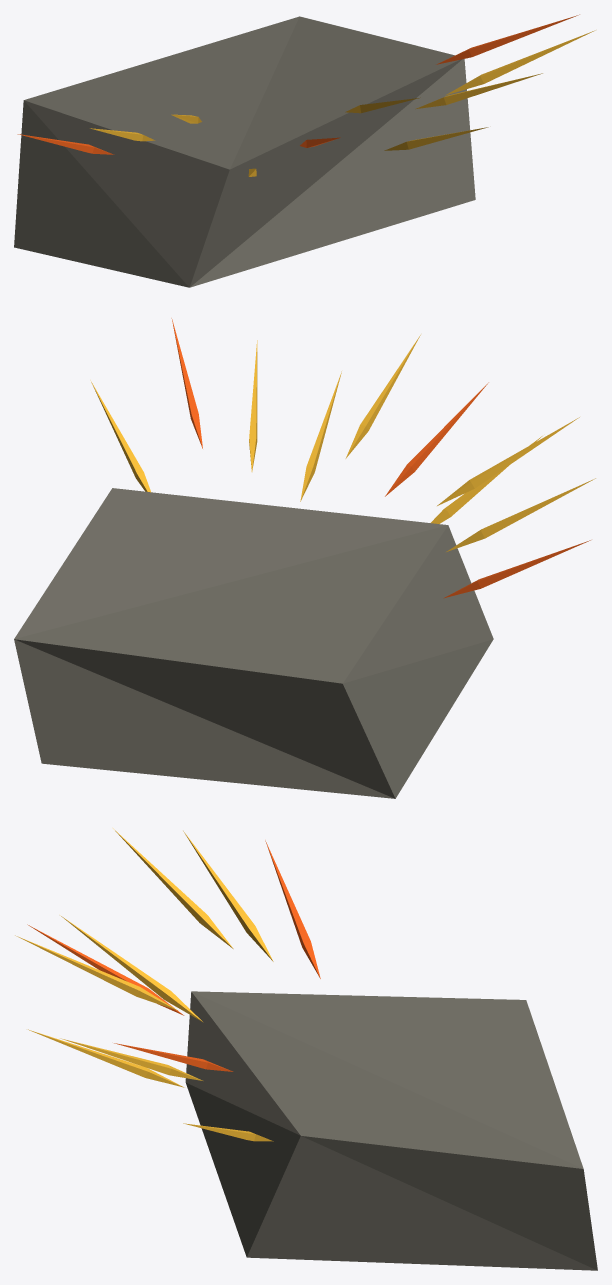
File: golem_hit_iron_sparks.obj
3 views of the same model, one above another, from view 1: azimuth 30°, elevation 25°; view 2: azimuth 150°, elevation 25°; view 3: azimuth 270°, elevation 25° (orthographic). The views are drawn at different scales.
Parts seen in each view (by area): view 1: dented_iron_plate, iron_spark_10, iron_spark_9, iron_spark_8, iron_spark_7, iron_spark_1, iron_spark_6; view 2: dented_iron_plate, iron_spark_3, iron_spark_2, iron_spark_5, iron_spark_1, iron_spark_6, iron_spark_7, iron_spark_10, iron_spark_9, iron_spark_8, iron_spark_4; view 3: dented_iron_plate, iron_spark_4, iron_spark_3, iron_spark_6, iron_spark_2, iron_spark_7, iron_spark_1, iron_spark_8, iron_spark_5, iron_spark_9.
Boxes of the visible parts, left/top/right/bottom form: dented_iron_plate: left=14, top=16, right=475, bottom=287; iron_spark_10: left=445, top=30, right=595, bottom=95; iron_spark_9: left=436, top=14, right=579, bottom=64; iron_spark_8: left=415, top=73, right=542, bottom=109; iron_spark_7: left=384, top=127, right=488, bottom=150; iron_spark_1: left=17, top=134, right=114, bottom=154; iron_spark_6: left=345, top=97, right=420, bottom=113; dented_iron_plate: left=14, top=488, right=493, bottom=798; iron_spark_3: left=437, top=417, right=579, bottom=505; iron_spark_2: left=446, top=478, right=595, bottom=551; iron_spark_5: left=385, top=382, right=488, bottom=496; iron_spark_1: left=443, top=540, right=590, bottom=598; iron_spark_6: left=345, top=335, right=420, bottom=458; iron_spark_7: left=300, top=371, right=341, bottom=501; iron_spark_10: left=90, top=380, right=150, bottom=492; iron_spark_9: left=171, top=318, right=202, bottom=448; iron_spark_8: left=249, top=340, right=257, bottom=471; iron_spark_4: left=431, top=436, right=542, bottom=523; dented_iron_plate: left=185, top=991, right=597, bottom=1270; iron_spark_4: left=60, top=915, right=202, bottom=1021; iron_spark_3: left=113, top=828, right=233, bottom=948; iron_spark_6: left=15, top=935, right=177, bottom=1010; iron_spark_2: left=183, top=831, right=273, bottom=961; iron_spark_7: left=28, top=1029, right=184, bottom=1087; iron_spark_1: left=265, top=840, right=320, bottom=978; iron_spark_8: left=60, top=1038, right=202, bottom=1080; iron_spark_5: left=27, top=924, right=184, bottom=1015; iron_spark_9: left=114, top=1043, right=233, bottom=1071.
Bounding box in the file's own units: 0.8914 × 0.4107 × 0.7726.
